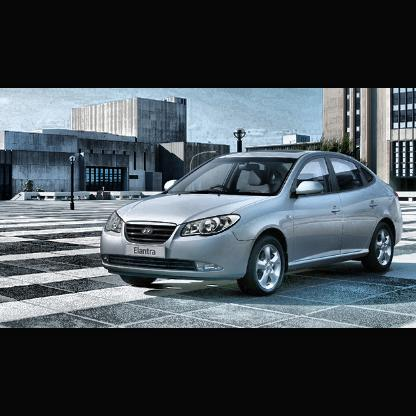Hyundai Elantra Sedan 2007: (99, 146, 405, 297)
